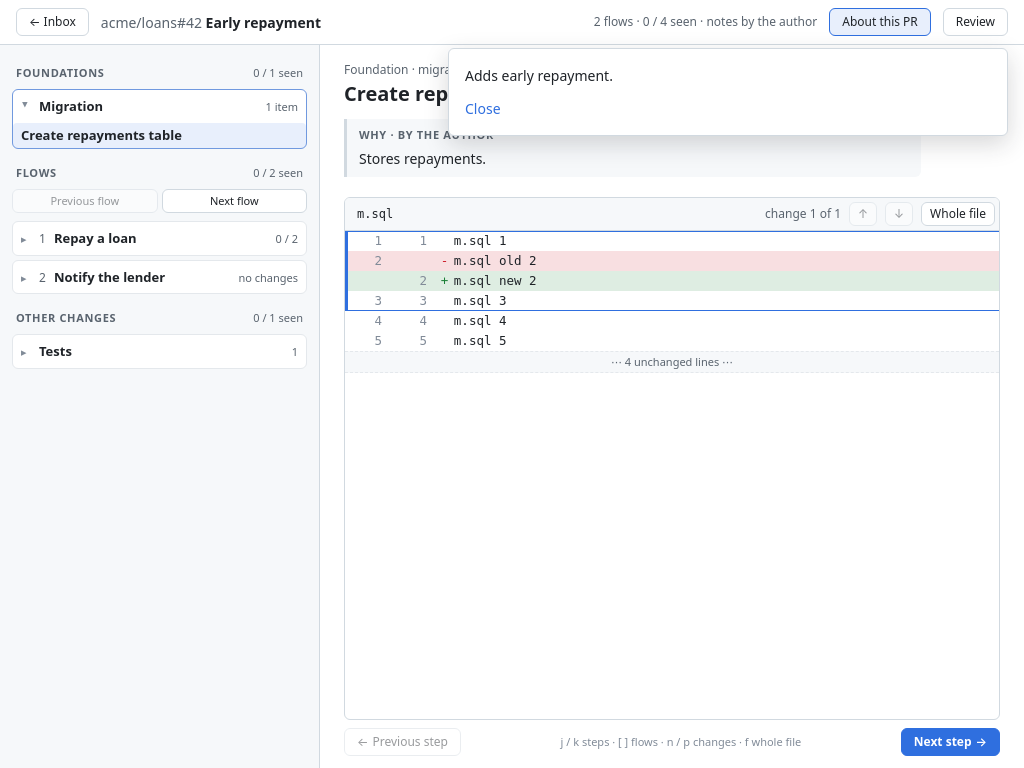
Test: typed text across moves › a cancelled comment does not come back
Expected: the text "m.sql new 2" is shown, [454,272,537,288]
Click the button named "Comment on line 2" at point(412, 280), box [390,270,435,290]
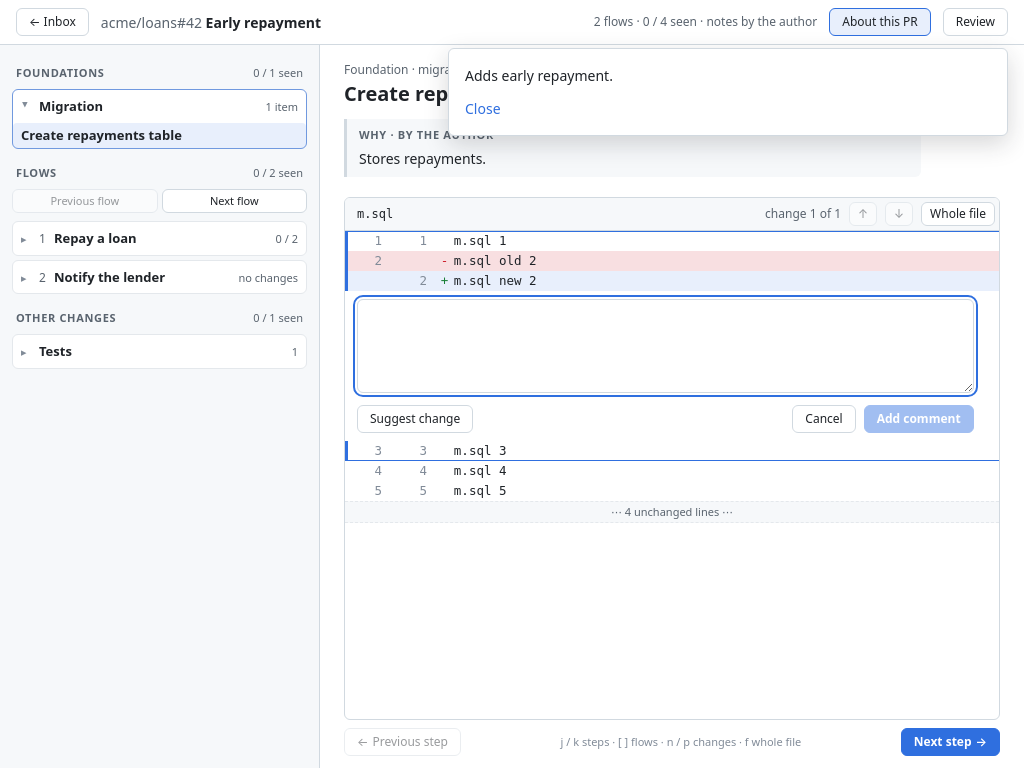
Click the button "Cancel" at point(824, 418), box [792,404,856,432]
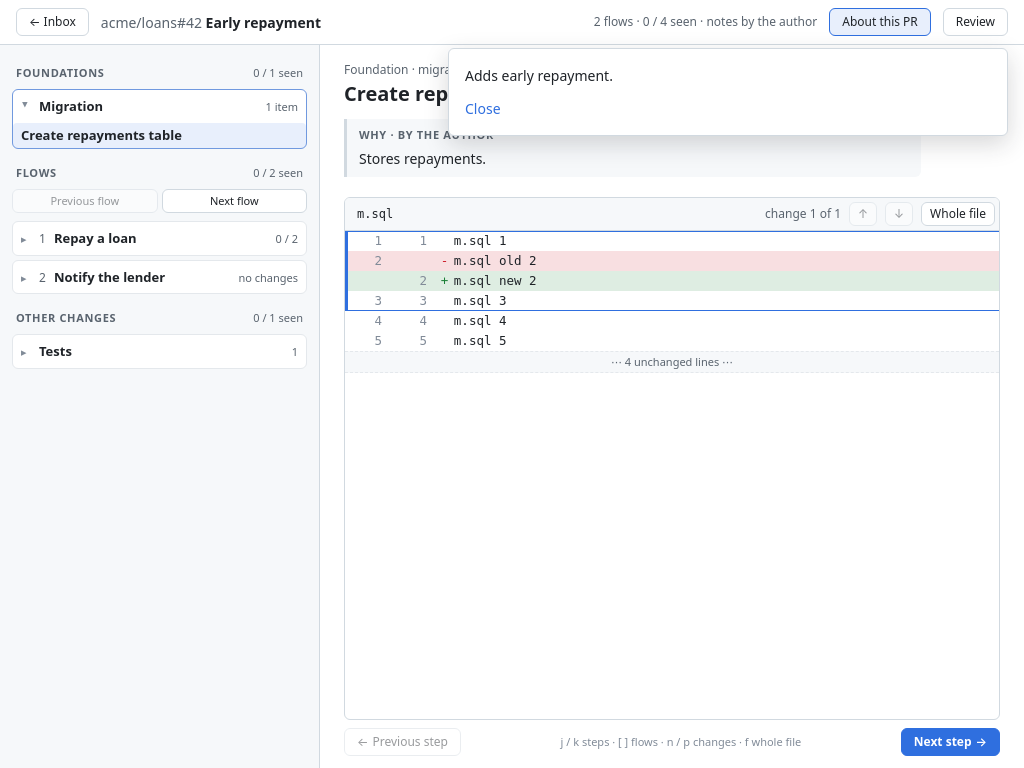
Press j
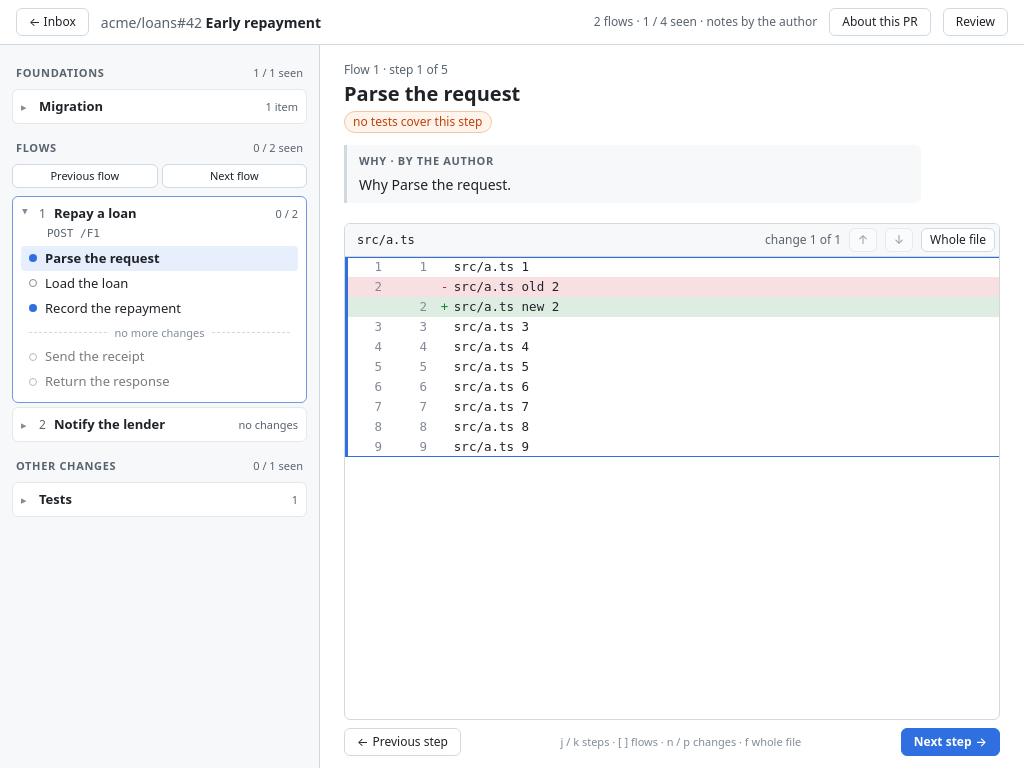
Result: the text "src/a.ts new 2" is shown at [454,298,559,314]
Result: the text "m.sql new 2" is gone
Press k
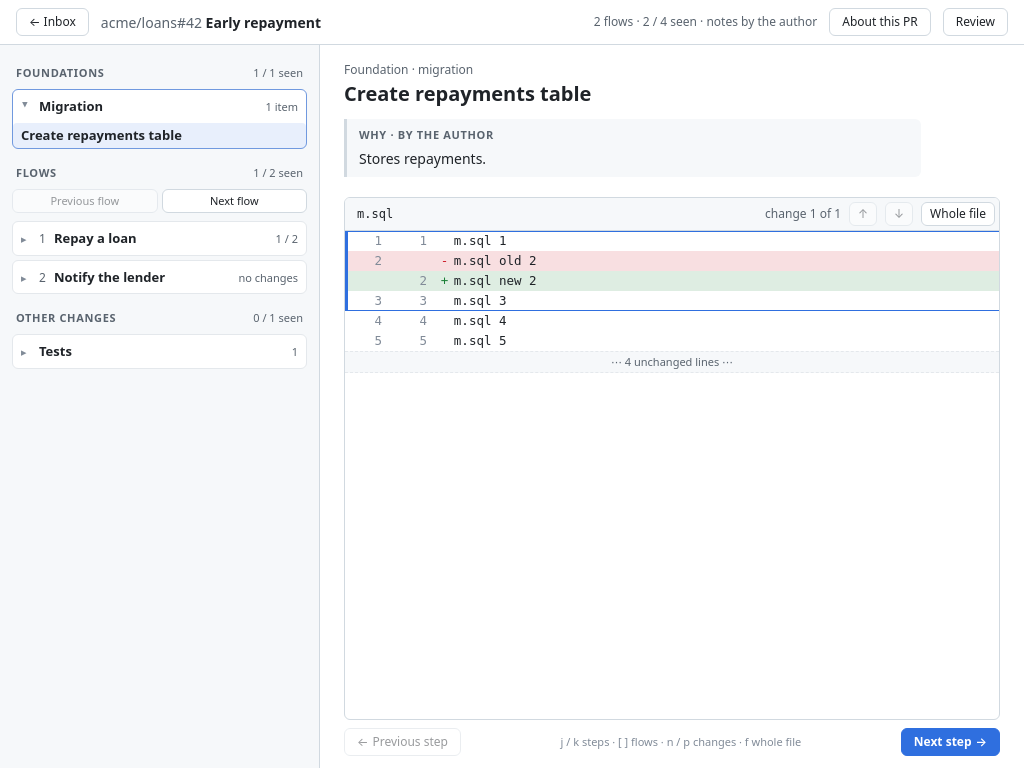
Result: the text "m.sql new 2" is shown at [454,272,537,288]
